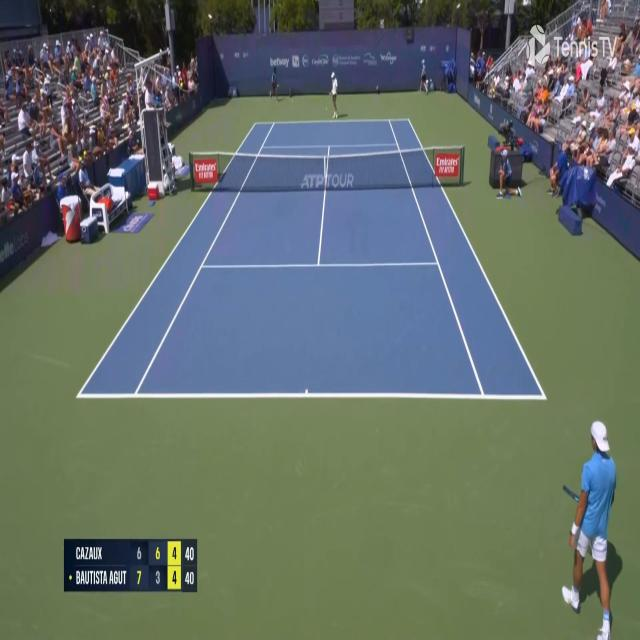tennis-player: (560, 413, 628, 629), (328, 72, 341, 120)
